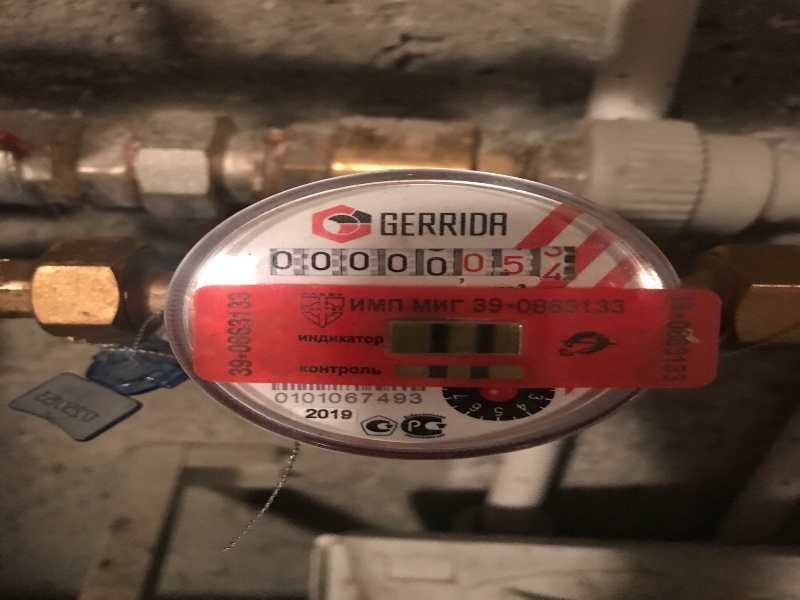meter: (255, 237, 598, 288)
